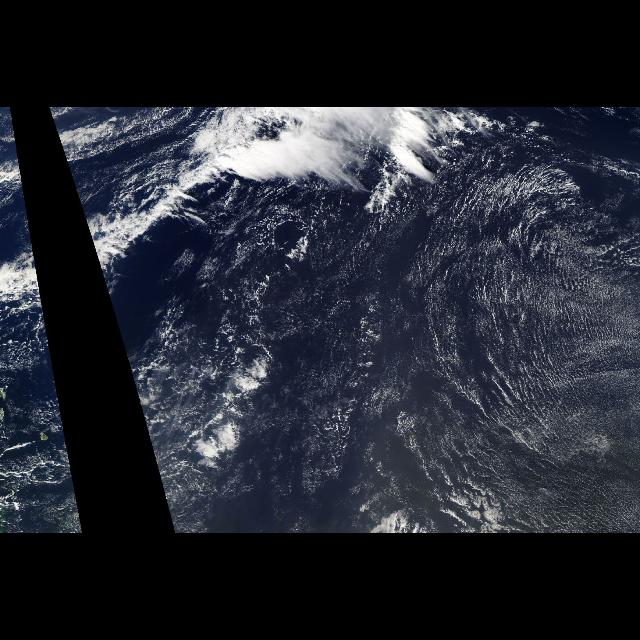Gravel: (146, 276, 284, 497)
Sugar: (267, 151, 639, 534)
